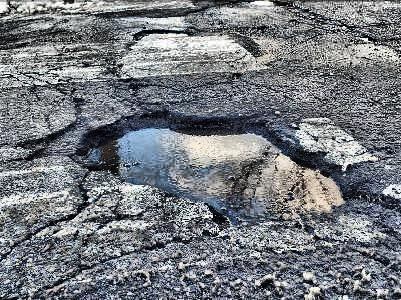pothole: (72, 107, 351, 228)
